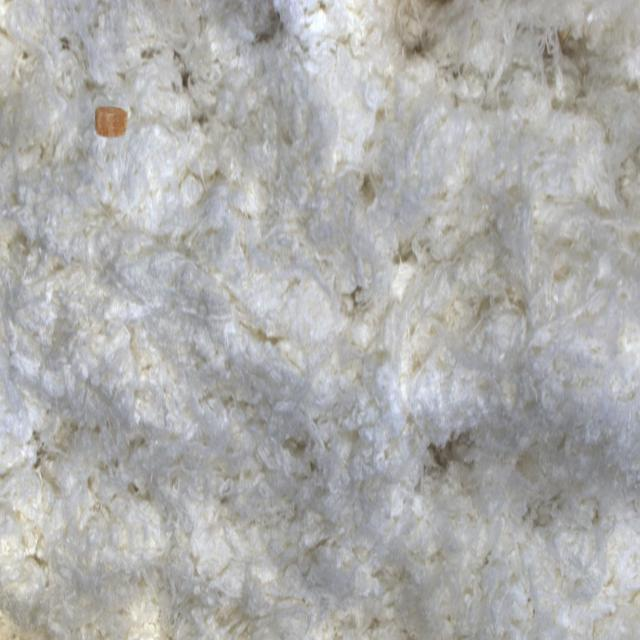dust: (70, 74, 149, 160)
